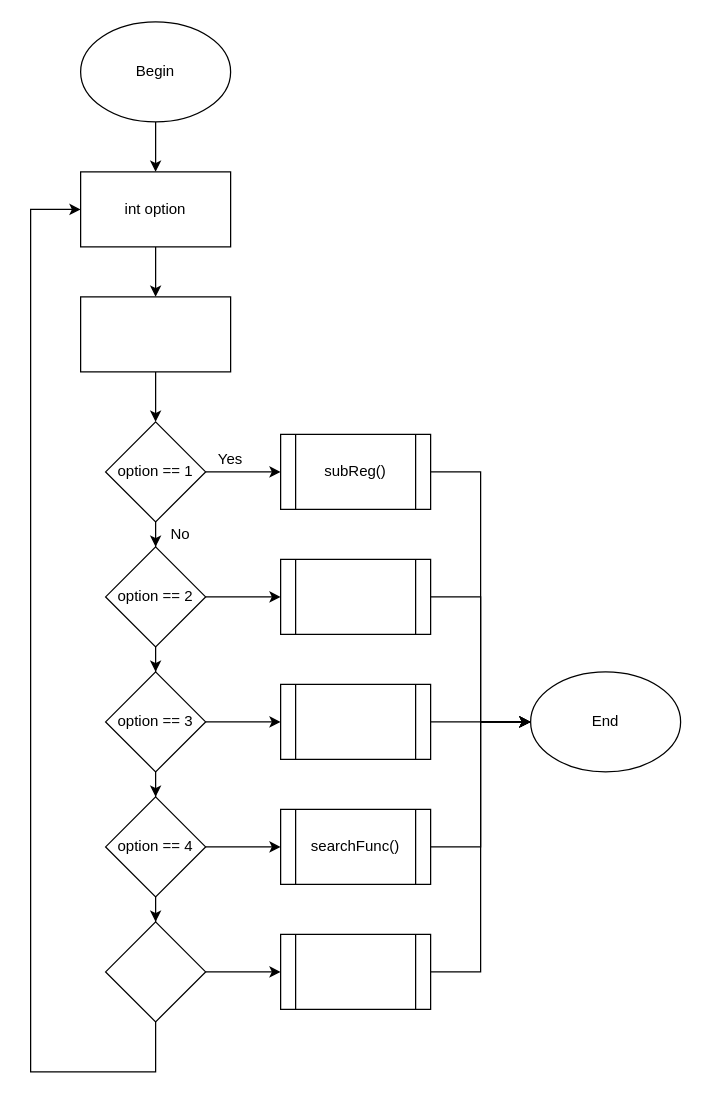
Some shapes in this 703 by 1104 pixel diagram are drawn without their labels. The centre of each missing label's shape, as x and y in pixels:
accInfo(): [355,721]
exitMenu(): [355,971]
insClaim(): [355,596]
option == 5: [155,971]
print menu read option: [155,334]
